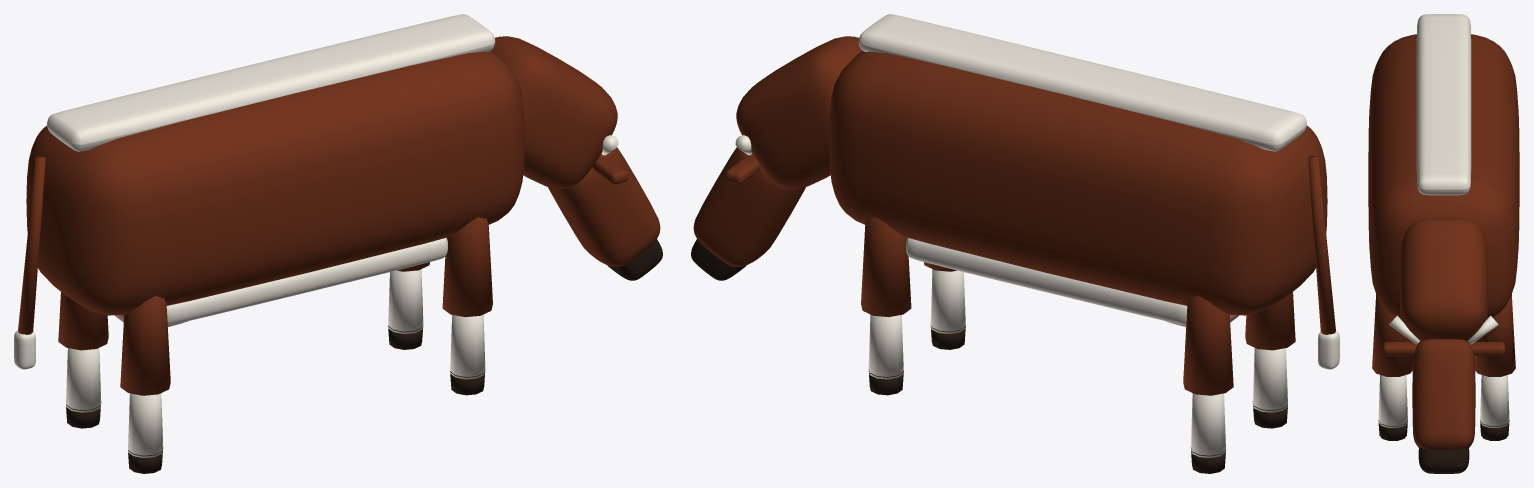
Rendered from cow.glb.
3 views of the same model, side by side, from view 1: azimuth 30°, elevation 25°; view 2: azimuth 150°, elevation 25°; view 3: azimuth 270°, elevation 25° (orthographic). The views are drawn at different scales.
Visible parts, largest first — view 1: cow; view 2: cow; view 3: cow.
Boxes of the visible parts, bbox=[...] form: cow: bbox=[14, 14, 662, 473]; cow: bbox=[691, 14, 1339, 473]; cow: bbox=[1368, 14, 1519, 473].
Size of the model in its own units: 2.85 by 1.43 by 0.7167.
